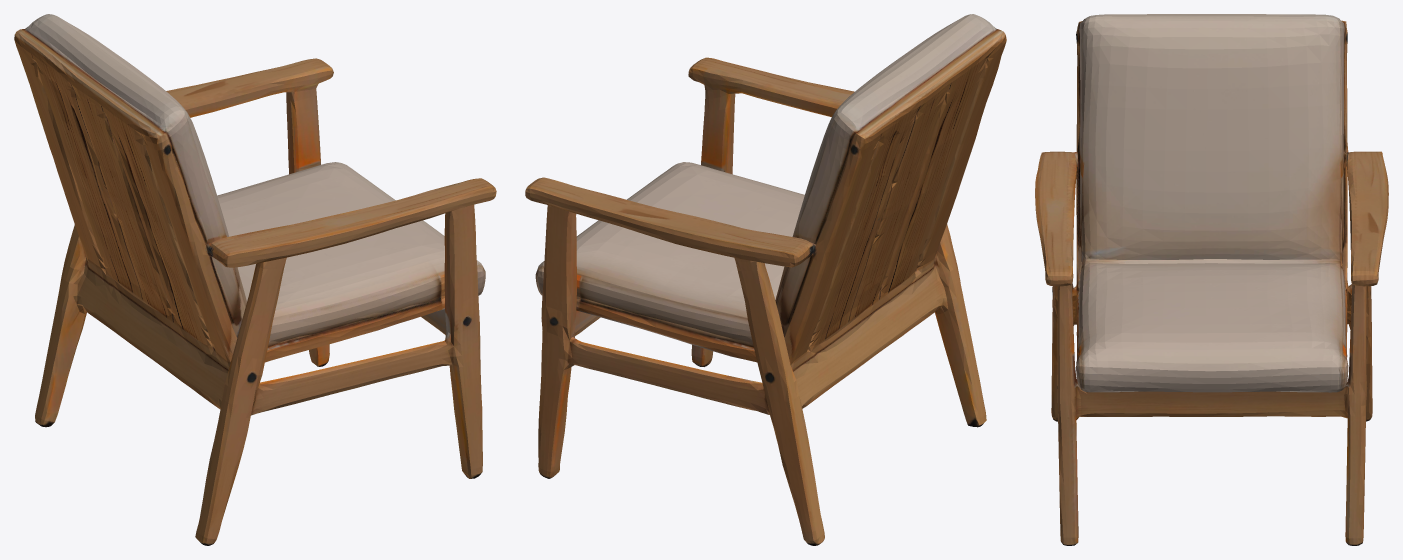
File: woodenchair.glb
3 views of the same model, side by side, from view 1: azimuth 30°, elevation 25°; view 2: azimuth 150°, elevation 25°; view 3: azimuth 270°, elevation 25° (orthographic). The views are drawn at different scales.
Visible parts, largest first — view 1: tripo_node_93032955-bee6-4861-bc94-bedcf80d459b; view 2: tripo_node_93032955-bee6-4861-bc94-bedcf80d459b; view 3: tripo_node_93032955-bee6-4861-bc94-bedcf80d459b.
Boxes of the visible parts, bbox=[...] form: tripo_node_93032955-bee6-4861-bc94-bedcf80d459b: bbox=[14, 14, 496, 545]; tripo_node_93032955-bee6-4861-bc94-bedcf80d459b: bbox=[525, 14, 1006, 545]; tripo_node_93032955-bee6-4861-bc94-bedcf80d459b: bbox=[1035, 14, 1388, 545].
Size of the model in its own units: 0.8096 by 0.9993 by 0.7989.
1 material, 1 textured.
